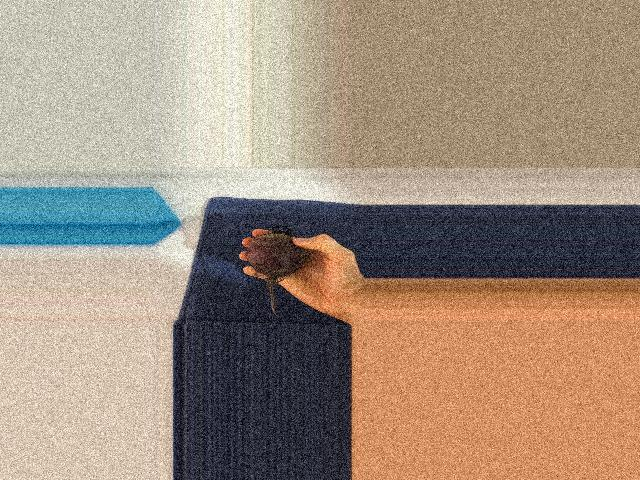beet: (246, 226, 304, 317)
